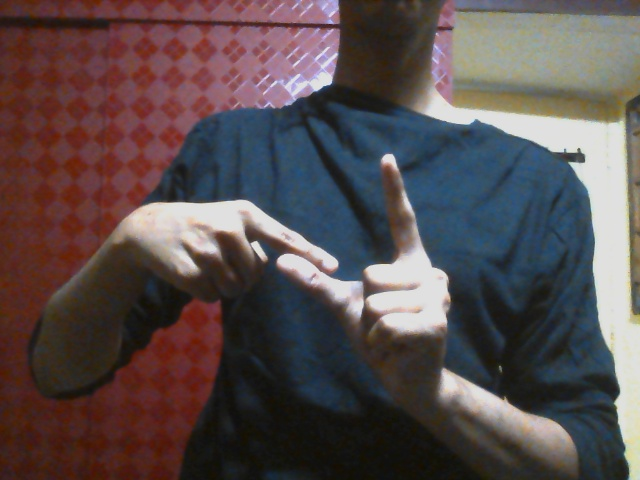J: (118, 154, 458, 374)
